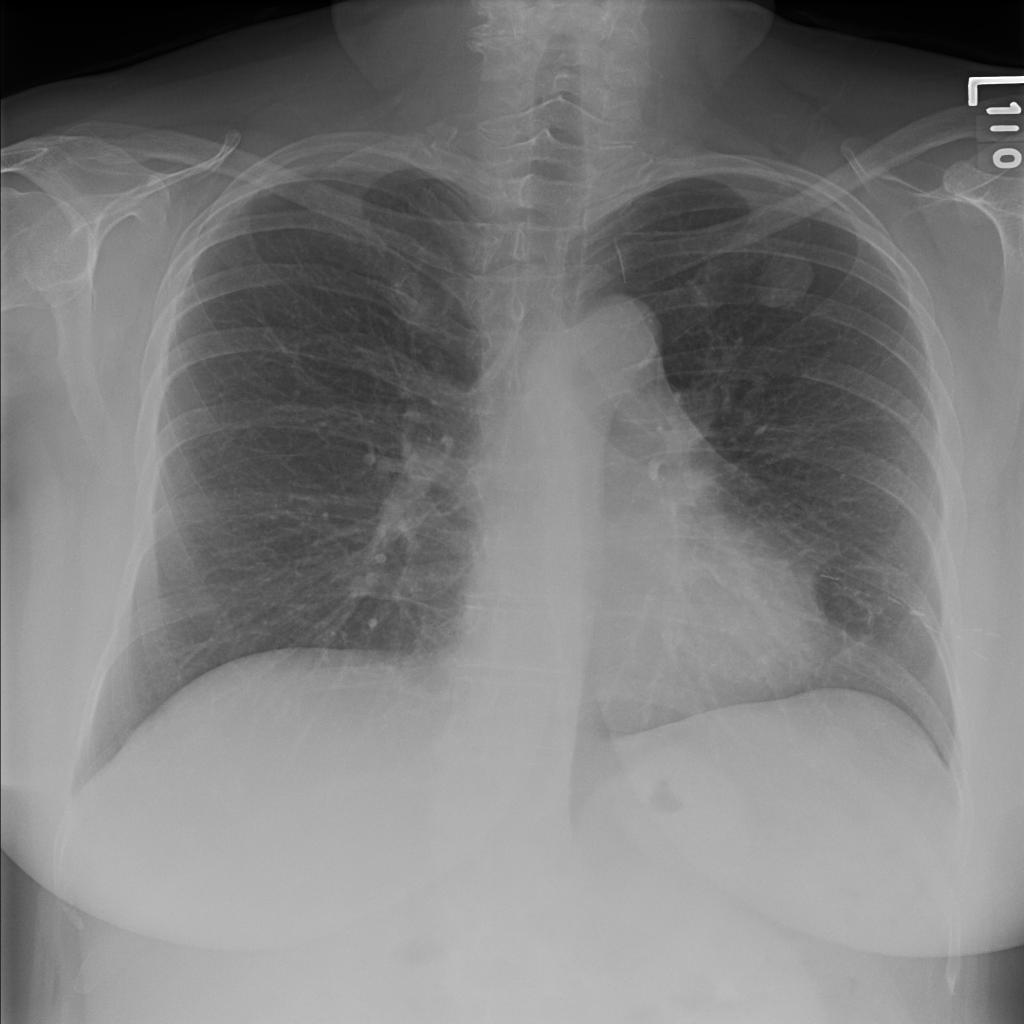Nodule: (449, 129, 478, 159)
